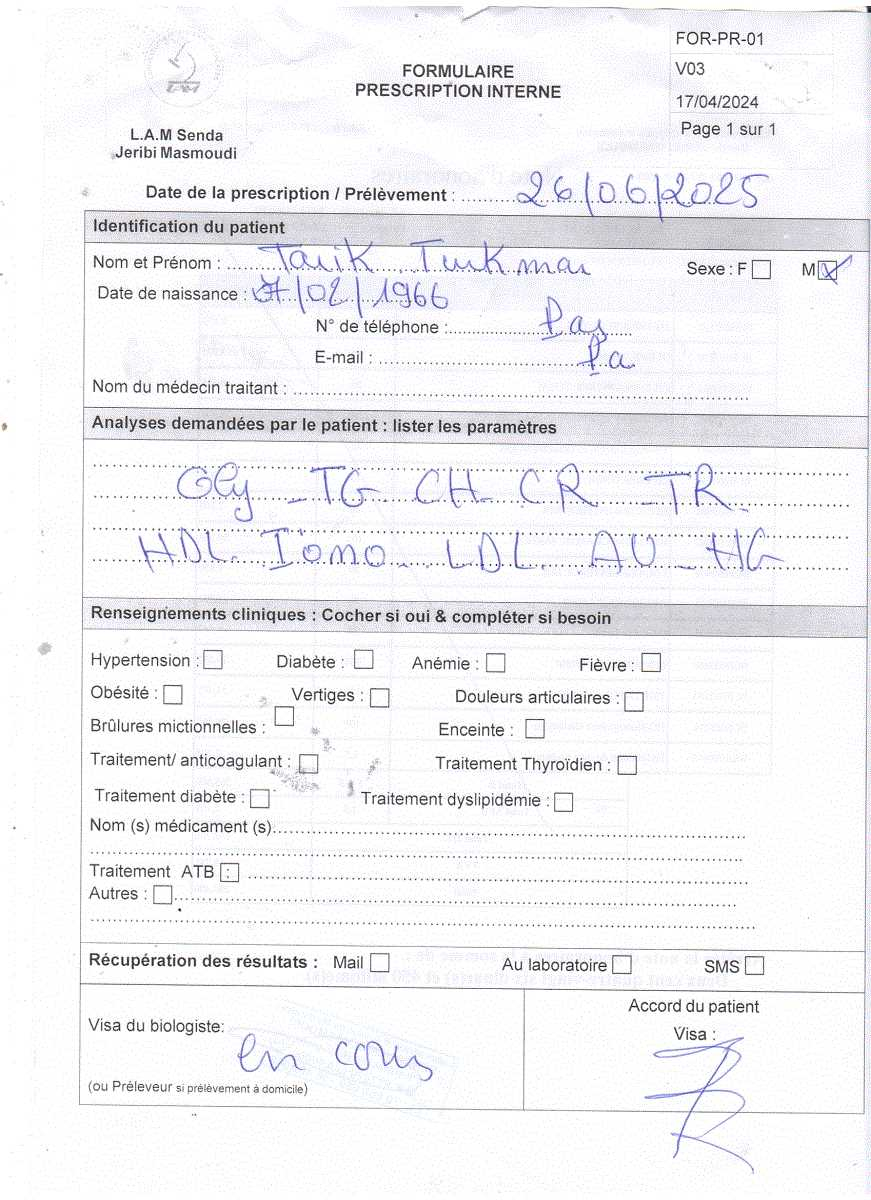zone_analyses: (89, 410, 813, 587)
zone_patient: (122, 161, 797, 209)
zone_prescripteur: (87, 207, 871, 382)
